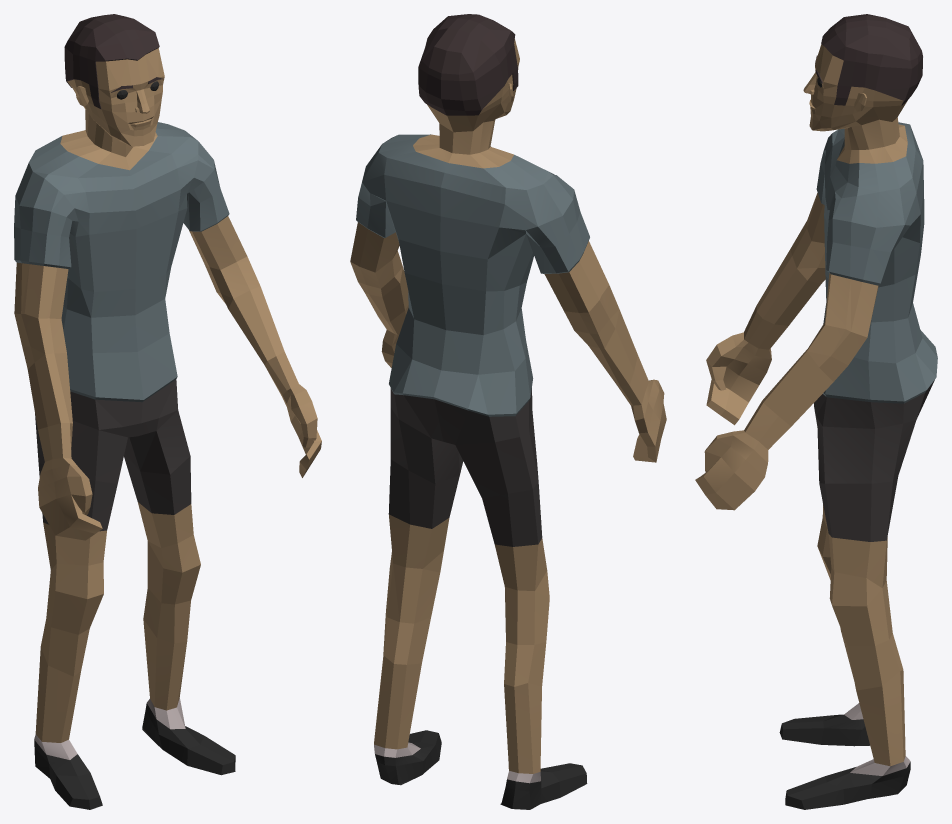
The model's file is ExplorerStatic.glb.
3 views of the same model, side by side, from view 1: azimuth 30°, elevation 25°; view 2: azimuth 150°, elevation 25°; view 3: azimuth 270°, elevation 25° (orthographic). The views are drawn at different scales.
Parts seen in each view (by area): view 1: BaseHuman; view 2: BaseHuman; view 3: BaseHuman.
Part boxes in pixels (bbox=[...]): BaseHuman: bbox=[14, 14, 321, 809]; BaseHuman: bbox=[350, 14, 666, 809]; BaseHuman: bbox=[695, 14, 937, 809].
Size of the model in its own units: 1.81 by 4.86 by 1.43.
